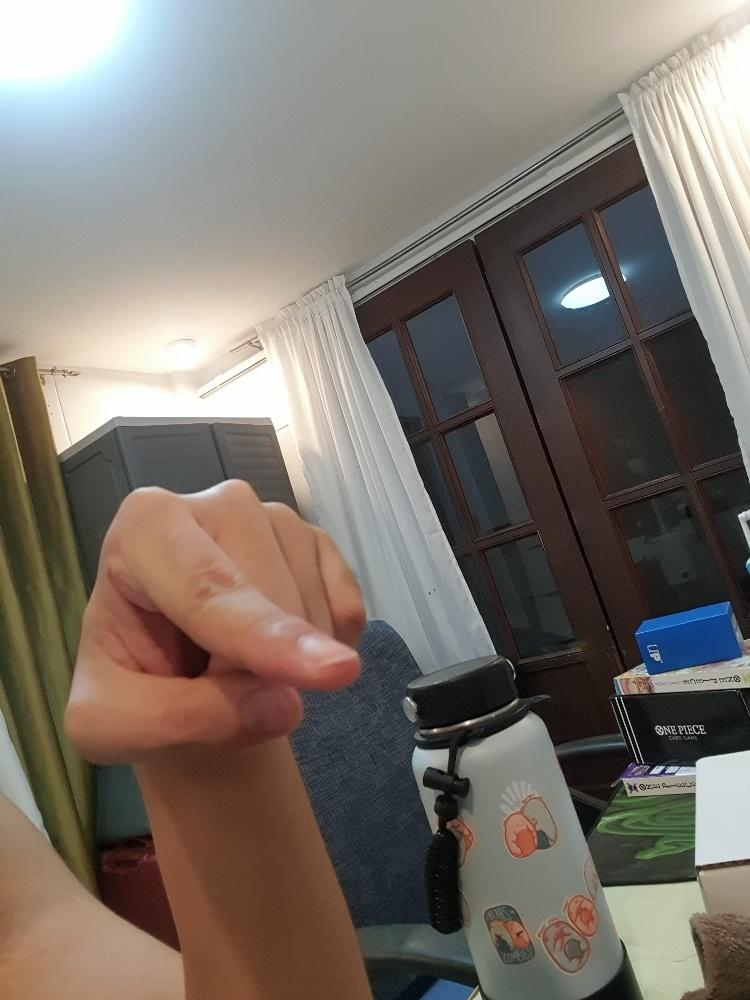z: (59, 473, 369, 768)
